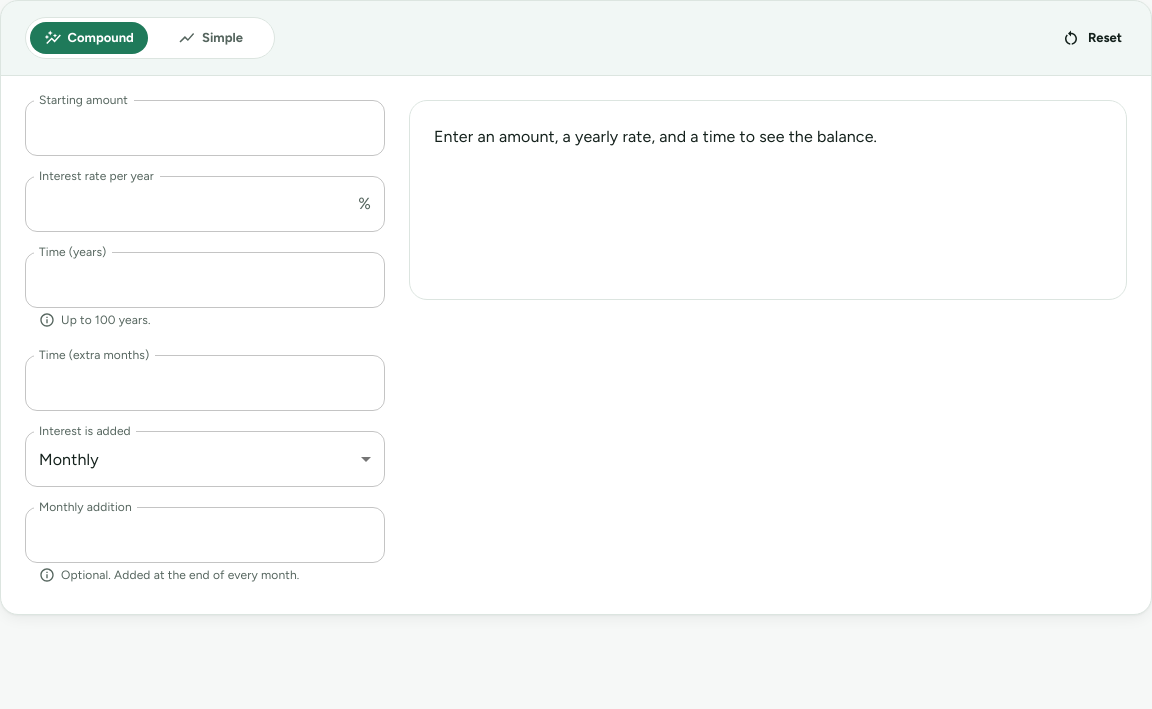
Test: InterestCalculatorTool › switches to simple interest and drops the compounding choice
Step 1. Type "10000" into the number field labelled "Starting amount" → point(205, 128), box [25,100,385,156]
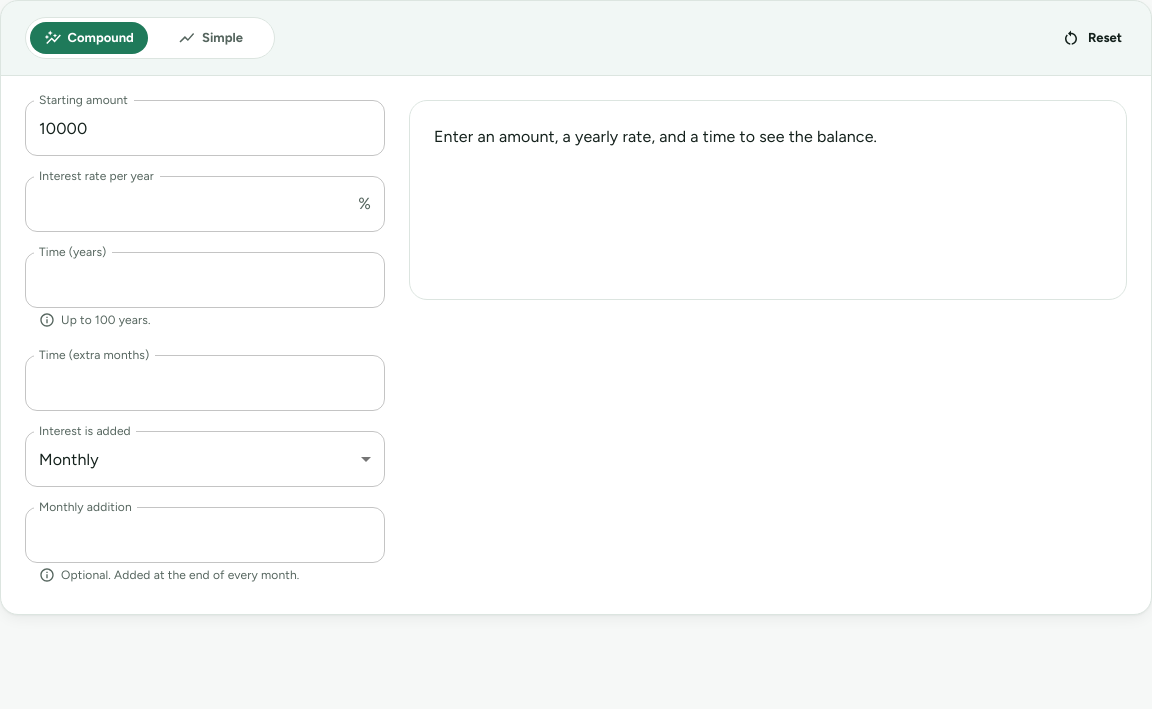
Step 2. Type "5" into the number field labelled "Interest rate per year" → point(188, 204), box [25,176,350,232]
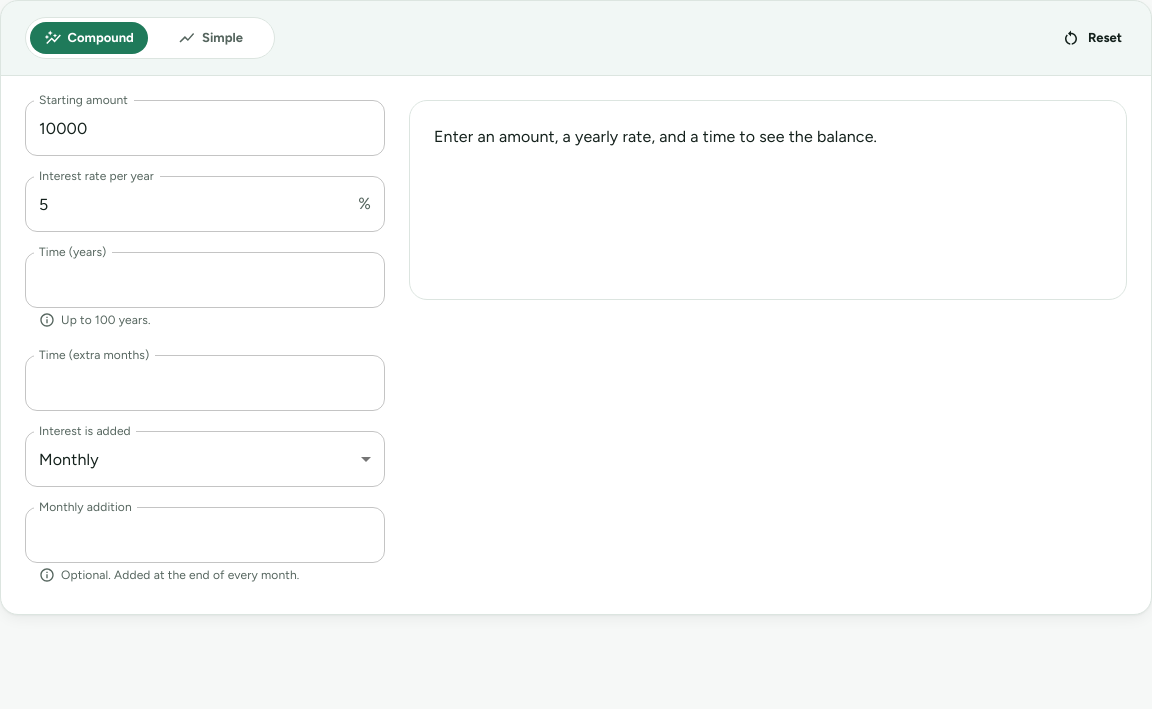
Step 3. Type "3" into the number field labelled "Time (years)" → point(205, 280), box [25,252,385,308]
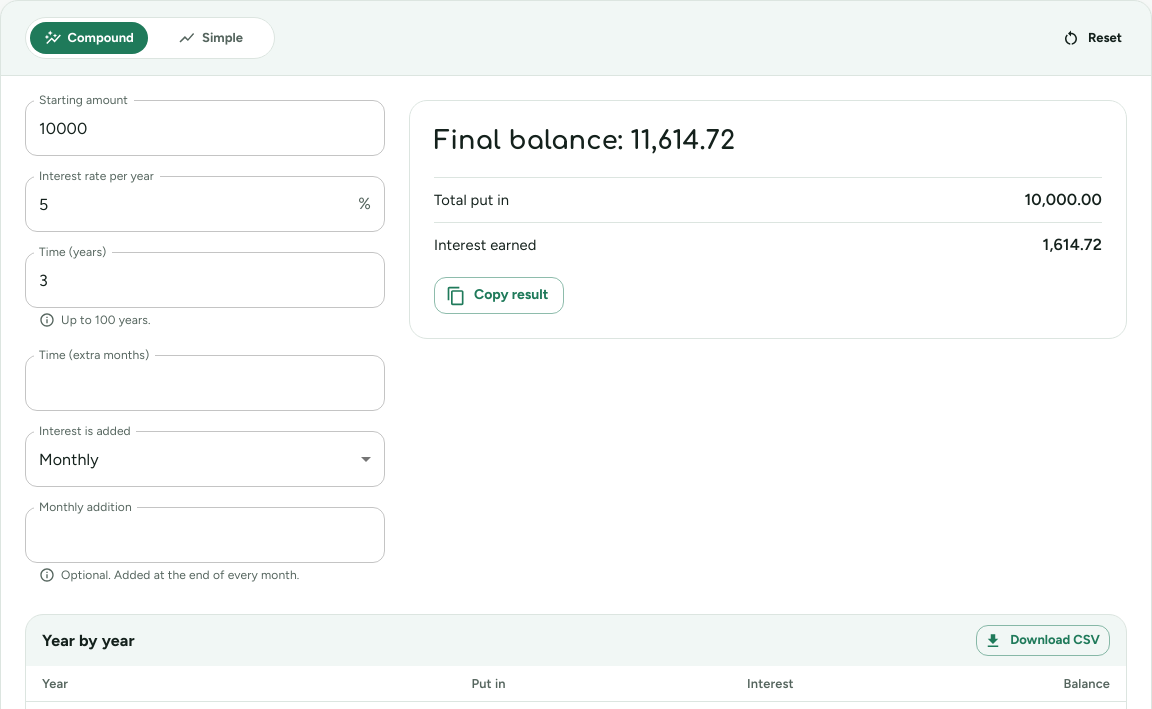
Step 4. Click the button "Simple" → point(211, 38), box [152,22,270,54]
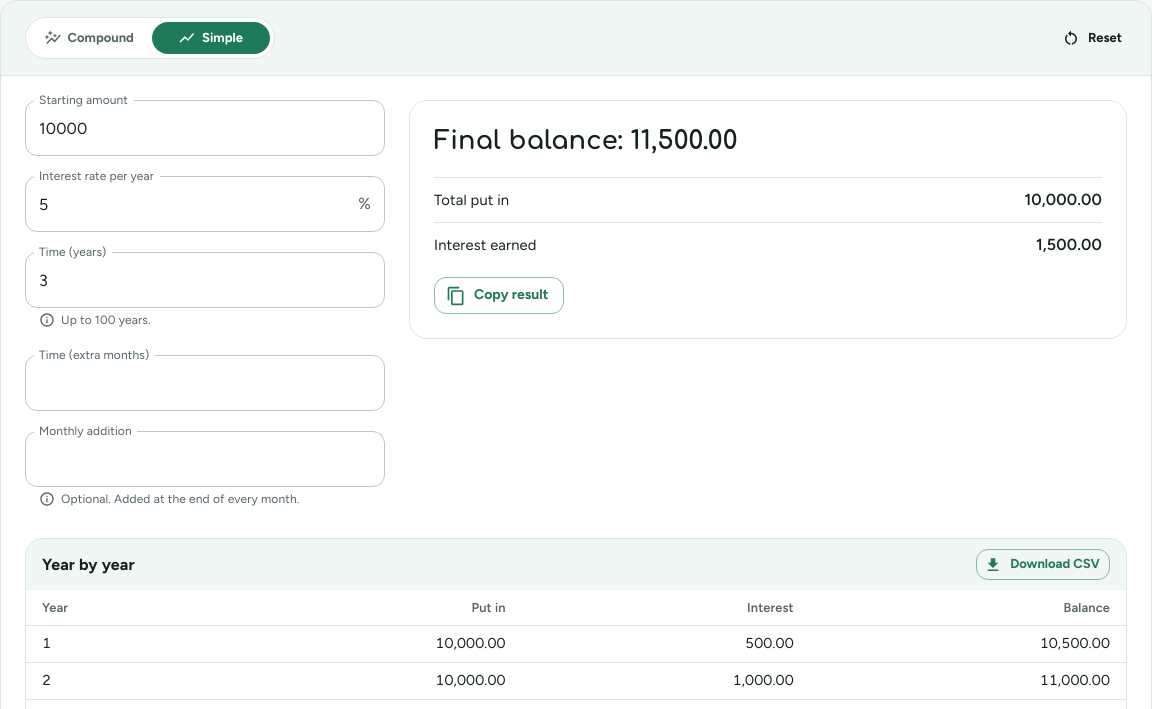
Now the text "Final balance: 11,500.00" is shown, box [434,126,738,155]
Now the text "Interest is added" is gone
